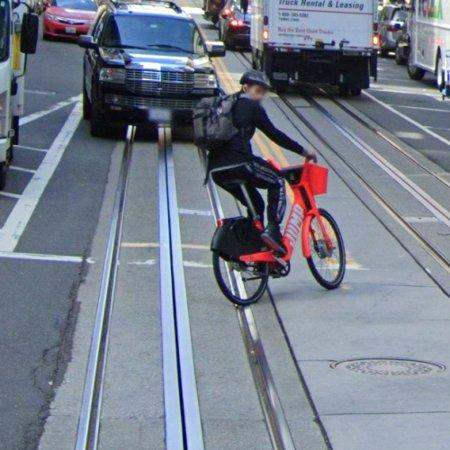bicycles: (211, 162, 347, 306)
